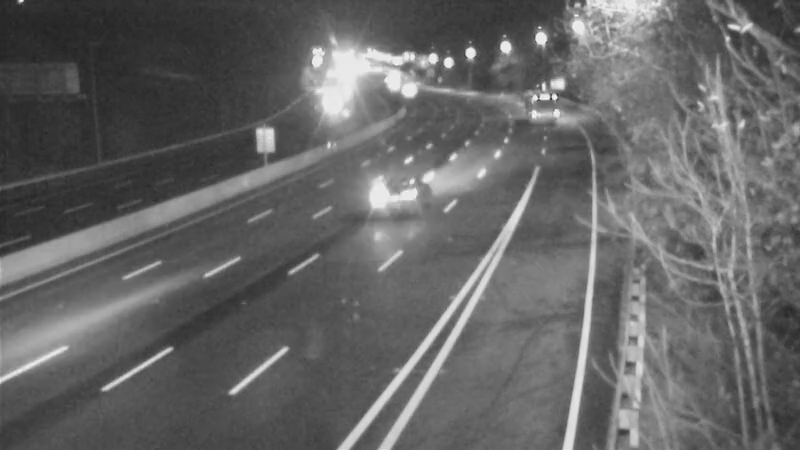vehicle: (356, 153, 436, 233), (385, 63, 435, 113), (520, 83, 570, 133), (306, 71, 356, 121)
